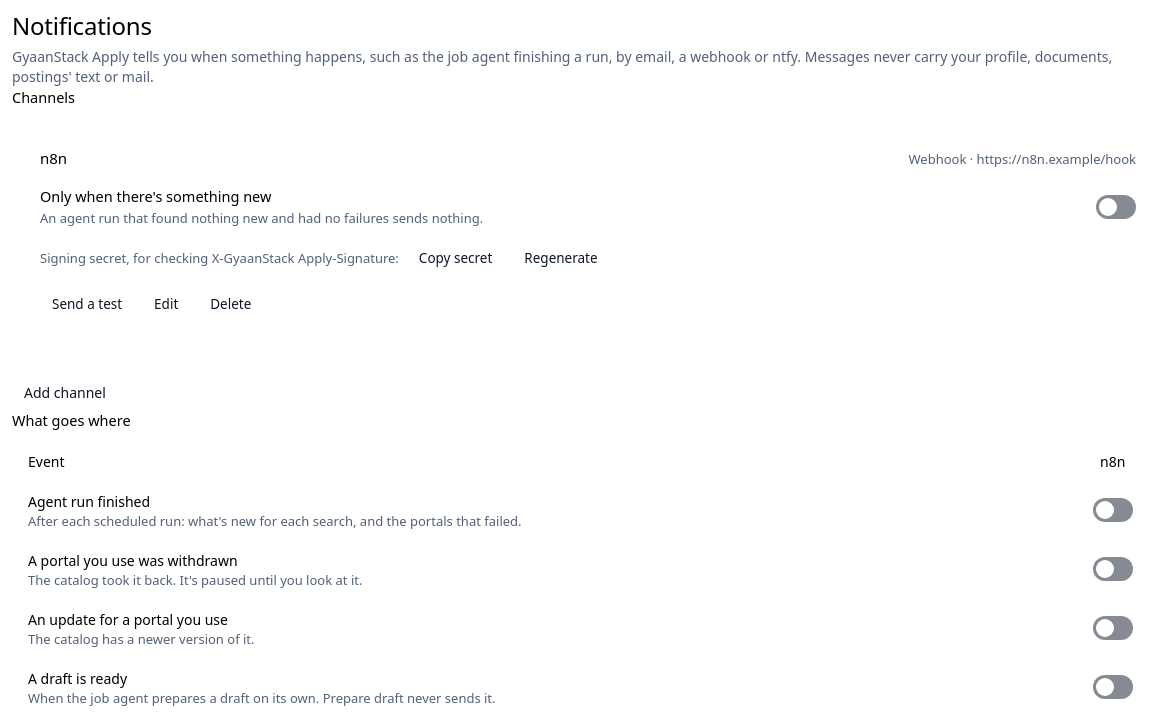
Test: Settings → Notifications (E26) › shows events as rows and channels as columns, each cell a switch
Check: the switch named "Agent run finished, to n8n" is checked, box [1093,498,1133,522]
Click the switch named "A draft is ready, to n8n" at [1113, 687], box [1093,675,1133,699]
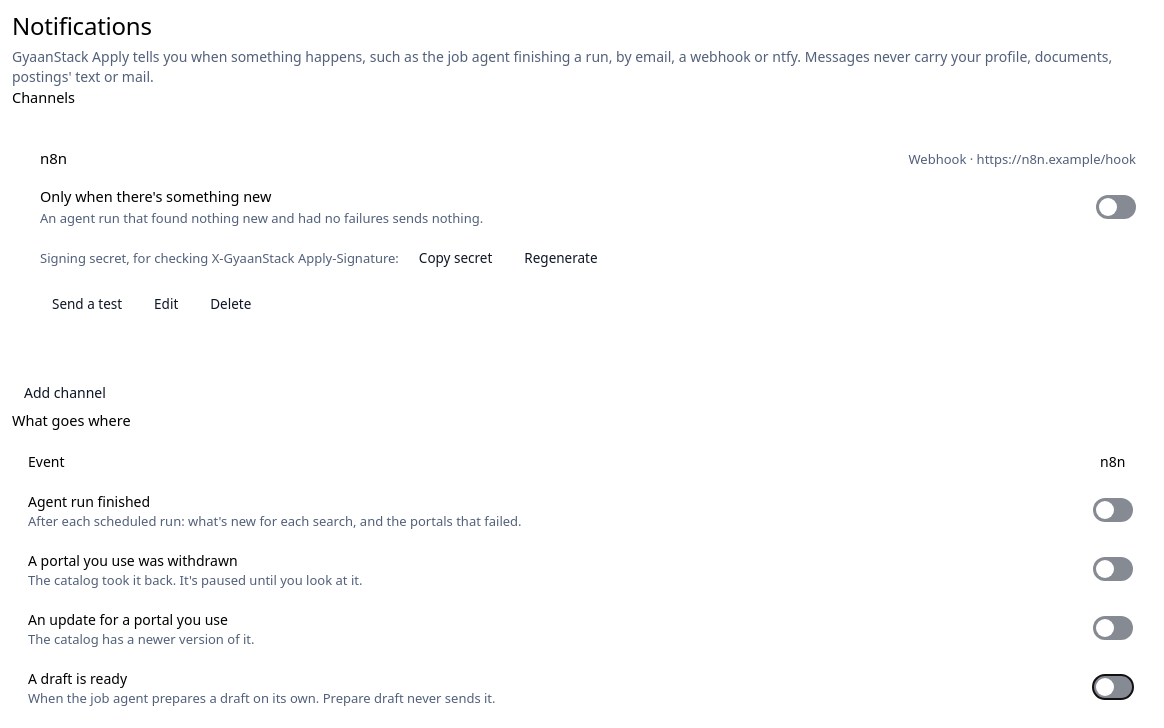
Check: the switch named "A draft is ready, to n8n" is checked, box [1093,675,1133,699]
